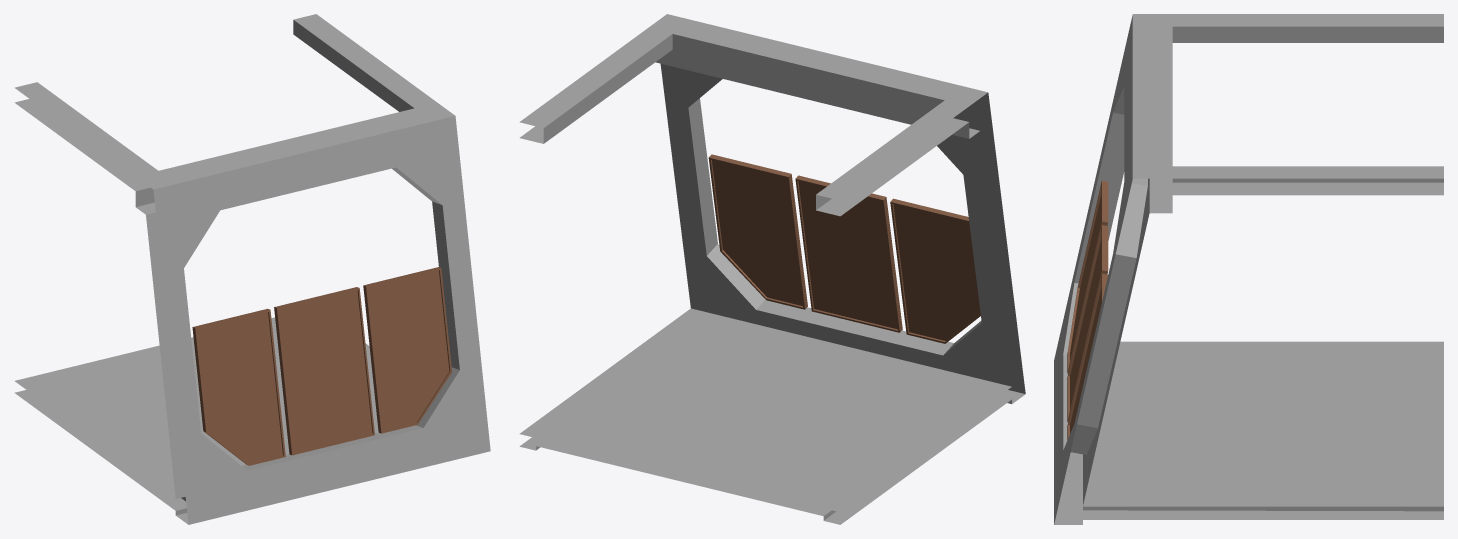
The model's file is S5_Bridge.fbx.
3 views of the same model, side by side, from view 1: azimuth 30°, elevation 25°; view 2: azimuth 150°, elevation 25°; view 3: azimuth 270°, elevation 25° (orthographic). The views are drawn at different scales.
Visible parts, largest first — view 1: S5_Bridge; view 2: S5_Bridge; view 3: S5_Bridge.
Part boxes in pixels (bbox=[...]): S5_Bridge: bbox=[14, 14, 490, 524]; S5_Bridge: bbox=[519, 14, 1025, 524]; S5_Bridge: bbox=[1054, 14, 1443, 524].
Size of the model in its own units: 30 by 29.38 by 29.98.
